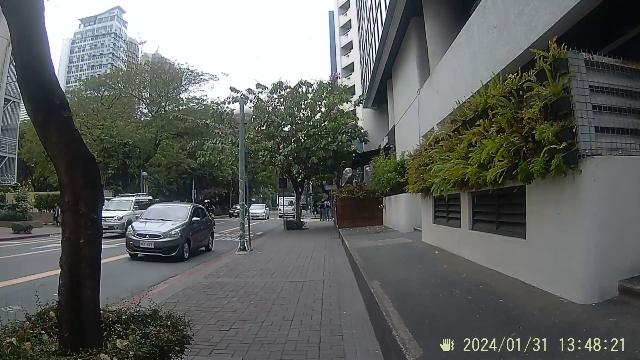tree: (13, 0, 107, 352), (290, 175, 304, 225)
utility_post: (238, 100, 250, 253)
